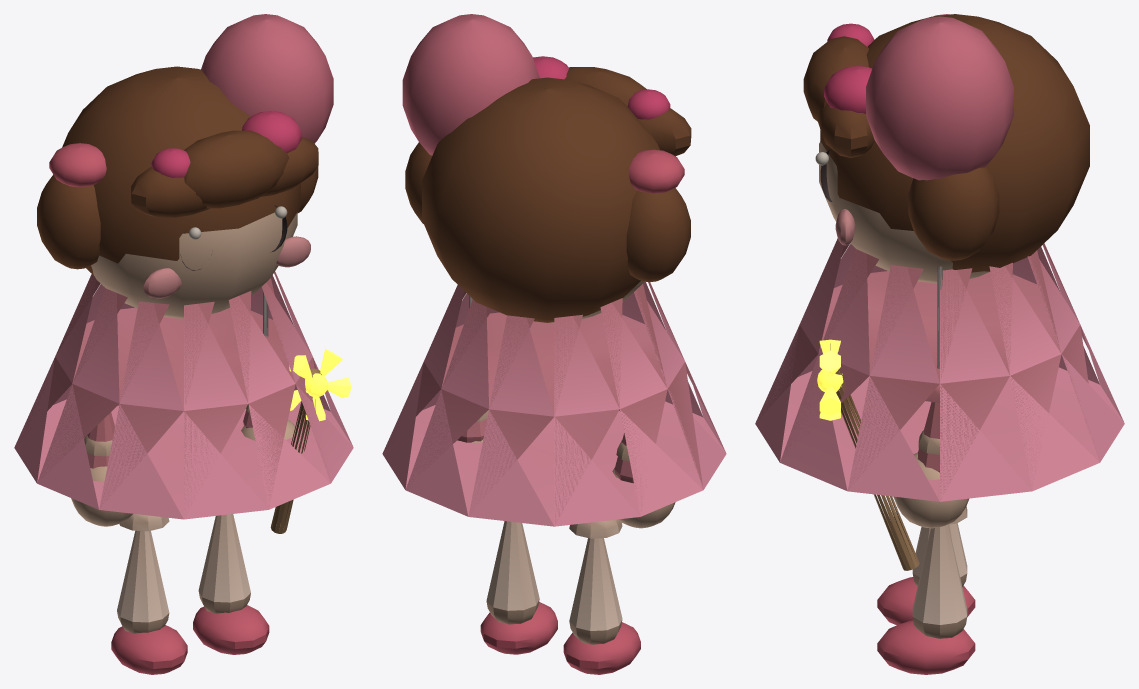
Rendered from girl-balloon-wand-rest.glb.
3 renders of one model, left to right at view 1: azimuth 30°, elevation 25°; view 2: azimuth 150°, elevation 25°; view 3: azimuth 270°, elevation 25°, orthographic. The views are drawn at different scales.
Visible parts, largest first — view 1: player_girl-balloon-wand:rest; view 2: player_girl-balloon-wand:rest; view 3: player_girl-balloon-wand:rest.
Boxes of the visible parts, x1,y1,x2,y2 form: player_girl-balloon-wand:rest: (14,14,353,674); player_girl-balloon-wand:rest: (382,14,726,674); player_girl-balloon-wand:rest: (755,14,1124,674).
Size of the model in its own units: 0.54 by 1.08 by 0.54.
